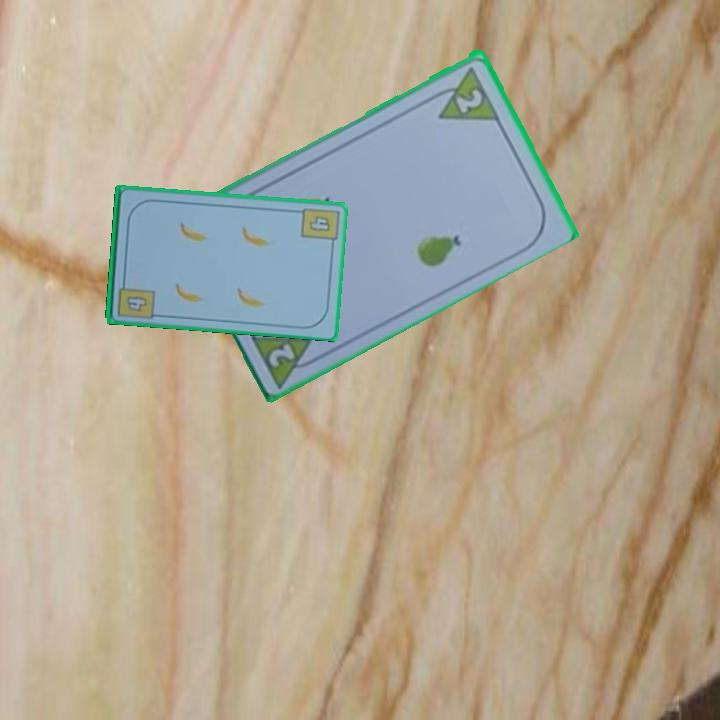2p: (426, 61, 502, 124), (265, 339, 299, 370)
4b: (298, 204, 340, 250), (123, 292, 150, 314)
